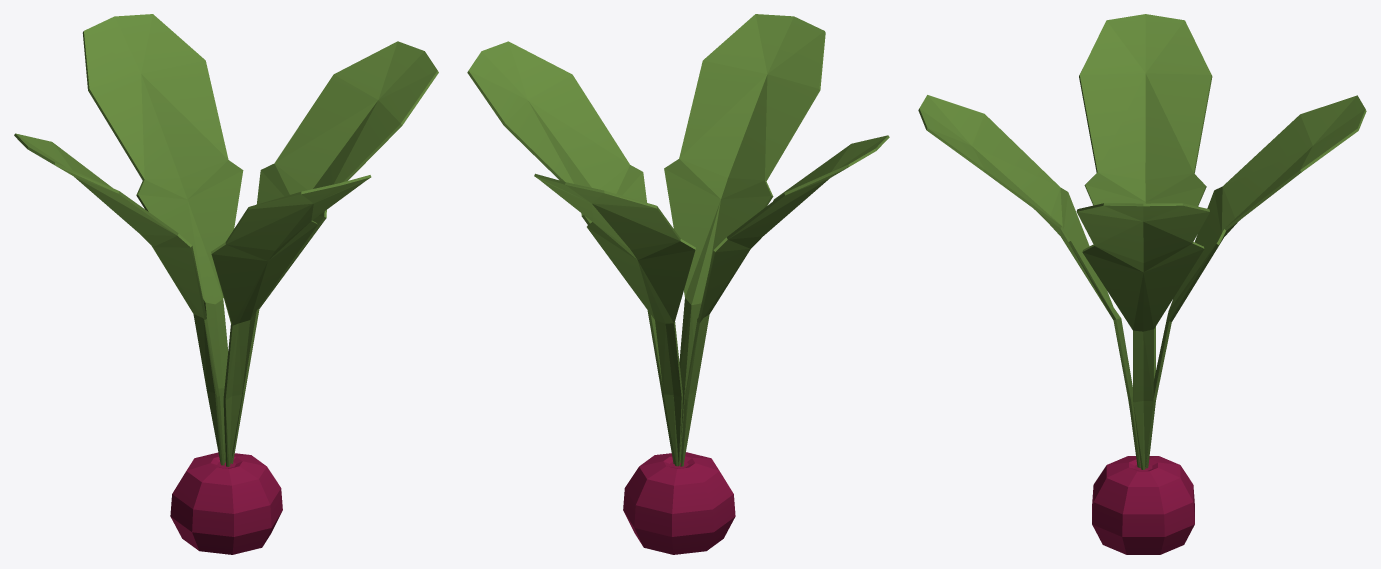
The model's file is Crop_Radish_STAGE_3_01.obj.
3 views of the same model, side by side, from view 1: azimuth 30°, elevation 25°; view 2: azimuth 150°, elevation 25°; view 3: azimuth 270°, elevation 25° (orthographic).
Visible parts, largest first — view 1: Crop_Radish_STAGE_3_01; view 2: Crop_Radish_STAGE_3_01; view 3: Crop_Radish_STAGE_3_01.
Boxes of the visible parts, left/top/right/bottom form: Crop_Radish_STAGE_3_01: left=14, top=14, right=438, bottom=554; Crop_Radish_STAGE_3_01: left=467, top=14, right=889, bottom=554; Crop_Radish_STAGE_3_01: left=918, top=14, right=1366, bottom=554.
Bounding box in the file's own units: 0.2494 × 0.262 × 0.248.
1 material, 1 textured.
